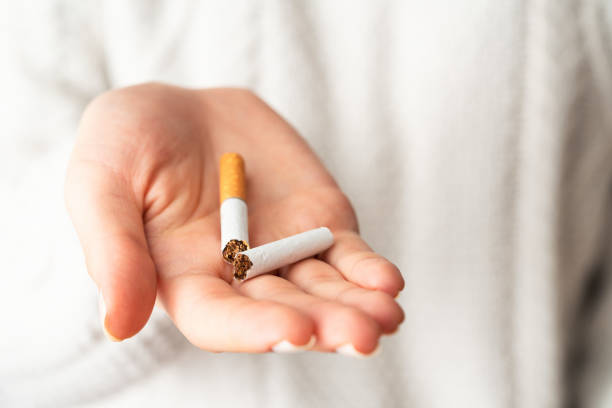cigarette: (231, 224, 337, 284), (217, 148, 251, 264)
